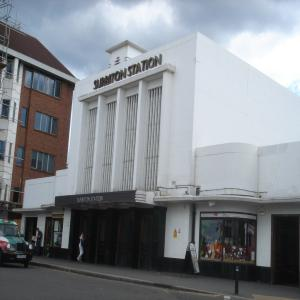Vehicle-registration-plate: (18, 255, 28, 262)
